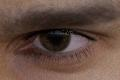eye: (40, 30, 70, 51)
